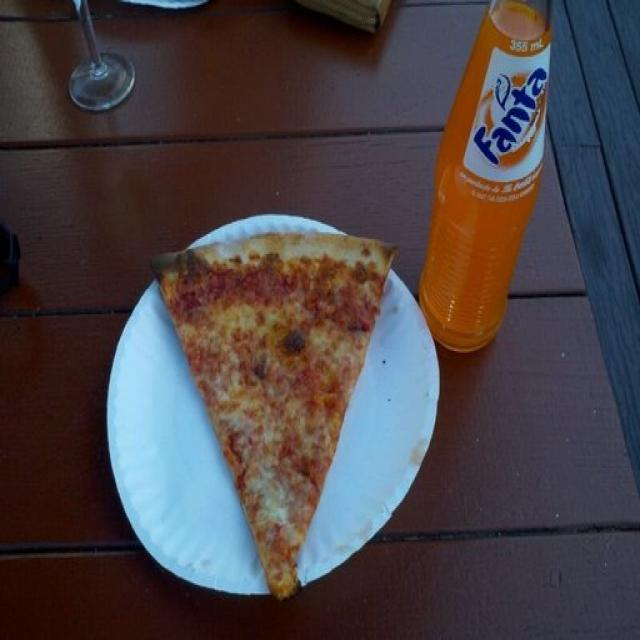Pizza: (151, 234, 396, 600)
